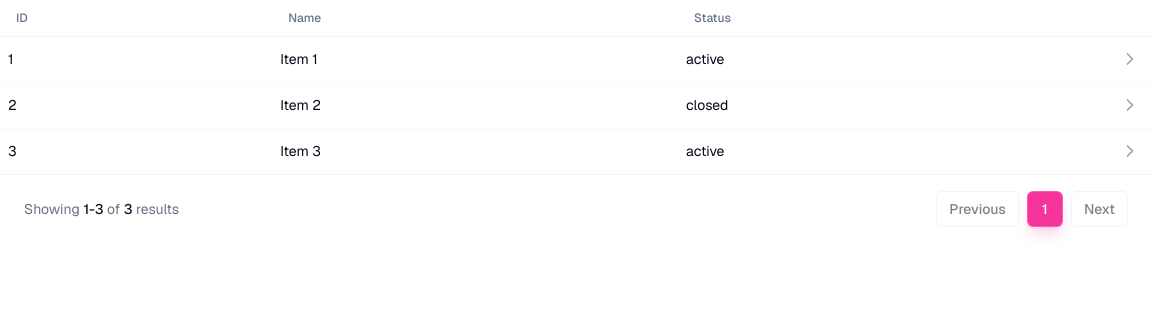
Test: DataTable › toggles row expansion on click
Note: Click expand button for first row
Click the button named "expand row" in the row of "Item 1": click(1130, 58) [1116,44,1144,72]
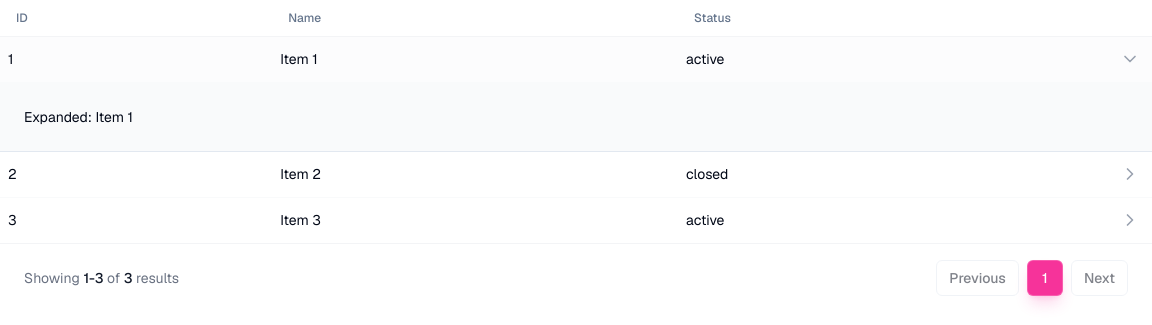
Expected: the text "Expanded: Item 1" is shown, [24,108,133,126]
